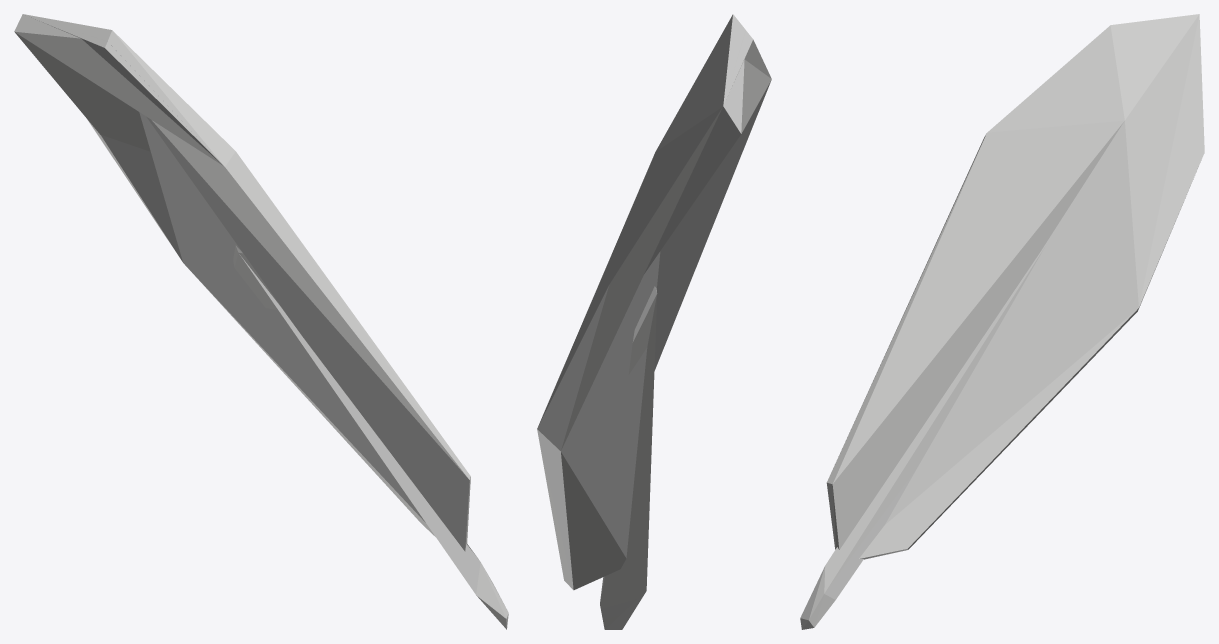
File: quill_interactable.fbx
3 views of the same model, side by side, from view 1: azimuth 30°, elevation 25°; view 2: azimuth 150°, elevation 25°; view 3: azimuth 270°, elevation 25° (orthographic). The views are drawn at different scales.
Visible parts, largest first — view 1: quill_interactable; view 2: quill_interactable; view 3: quill_interactable.
Part boxes in pixels (x1,y1,x2,y2): quill_interactable: (14,14,508,629); quill_interactable: (537,14,771,629); quill_interactable: (800,14,1204,629).
Size of the model in its own units: 73.82 by 132 by 96.56.
